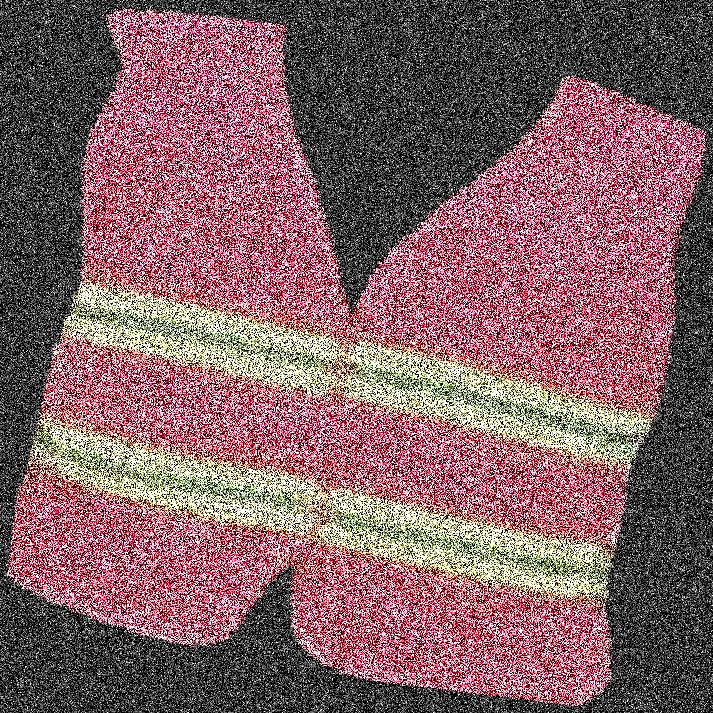Colete: (377, 0, 712, 712)
